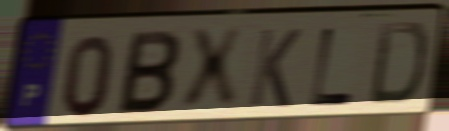0: (58, 29, 117, 120)
B: (114, 29, 183, 118)
D: (365, 19, 431, 108)
K: (246, 26, 305, 111)
L: (307, 24, 357, 109)
X: (180, 24, 246, 117)
